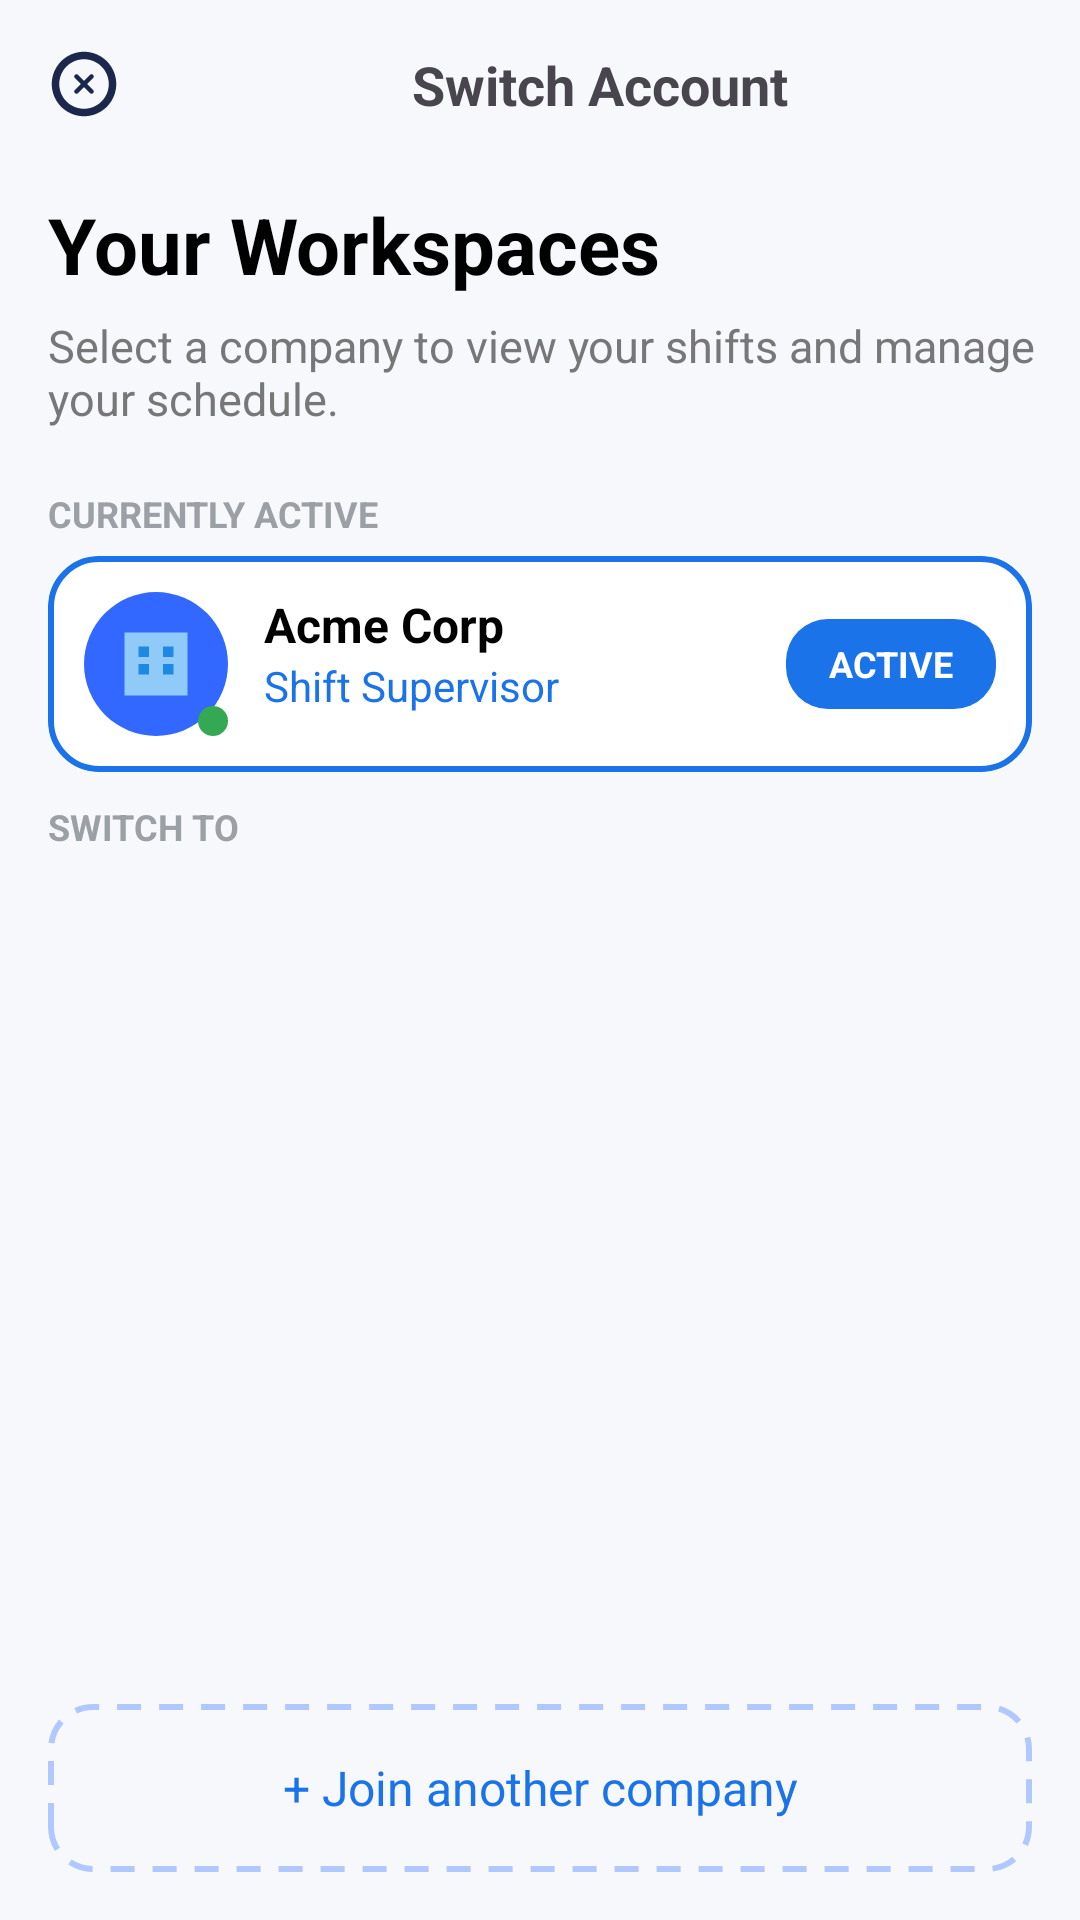

Where to tap for icons on this 1080px x 1920px app screen, as [x,y]:
building: [156,664]
close: [84,84]
